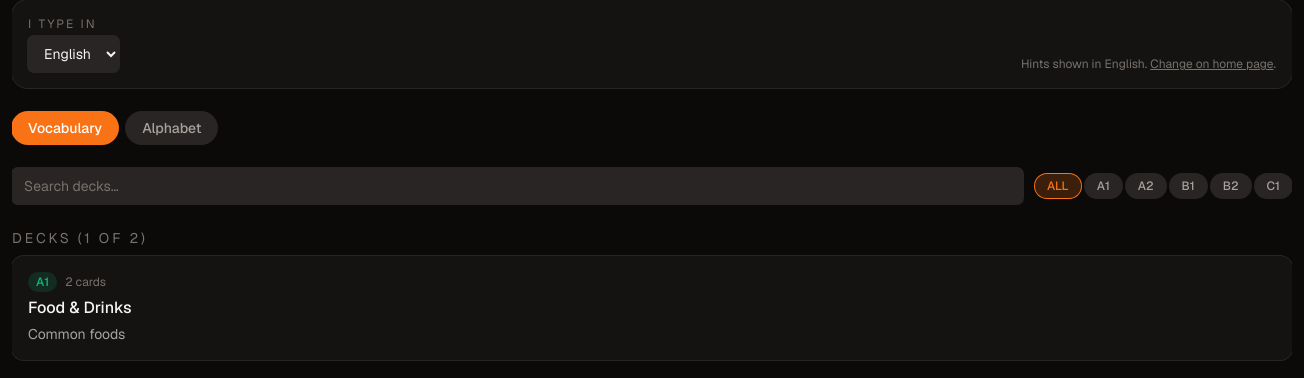
VocabLanding — Vocabulary / Alphabet tab › clicking Alphabet hides vocab decks and shows alphabet decks
Click the tab "Alphabet".
click(172, 128)  # box [126,112,217,144]
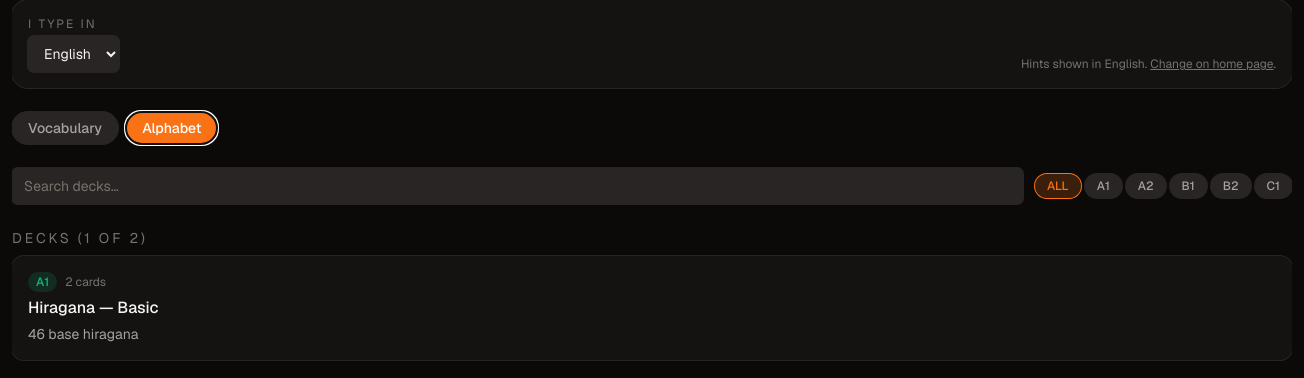
Result: the link "Food & Drinks" is gone
Result: the text "Hiragana — Basic" is shown at [28,297,158,318]
